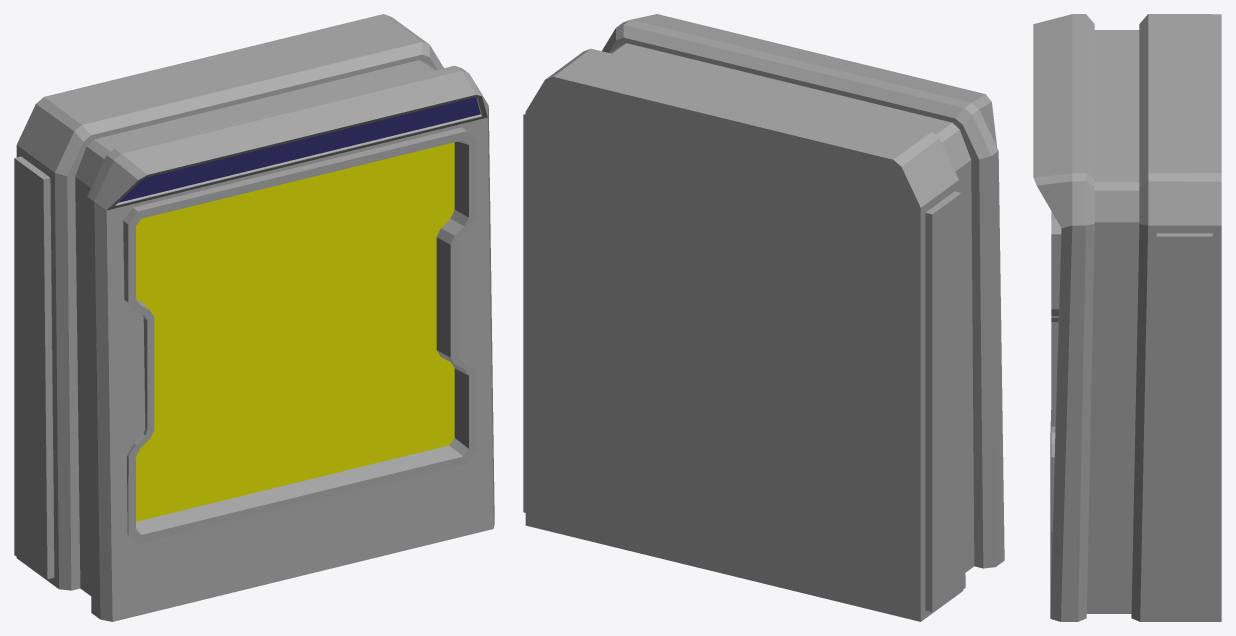
The model's file is Screen_Medium.fbx.
3 views of the same model, side by side, from view 1: azimuth 30°, elevation 25°; view 2: azimuth 150°, elevation 25°; view 3: azimuth 270°, elevation 25° (orthographic). The views are drawn at different scales.
Parts seen in each view (by area): view 1: Screen_Medium; view 2: Screen_Medium; view 3: Screen_Medium.
Part boxes in pixels (box(x1,y1,x2,y2)): Screen_Medium: box(14, 14, 494, 621); Screen_Medium: box(523, 14, 1004, 621); Screen_Medium: box(1033, 14, 1221, 621).
Size of the model in its own units: 2.87 by 3.05 by 1.19.
